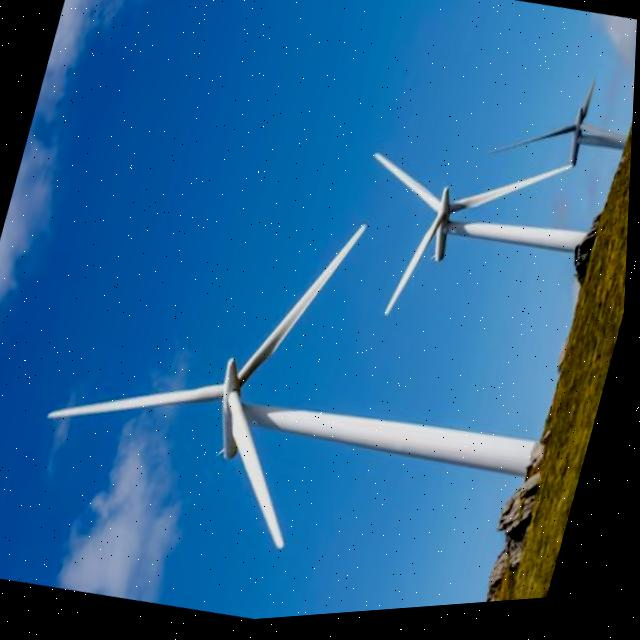solid-blade: (242, 228, 367, 386), (232, 393, 289, 550), (51, 387, 226, 418)
wind-turbine: (51, 228, 540, 553), (377, 159, 588, 320)
